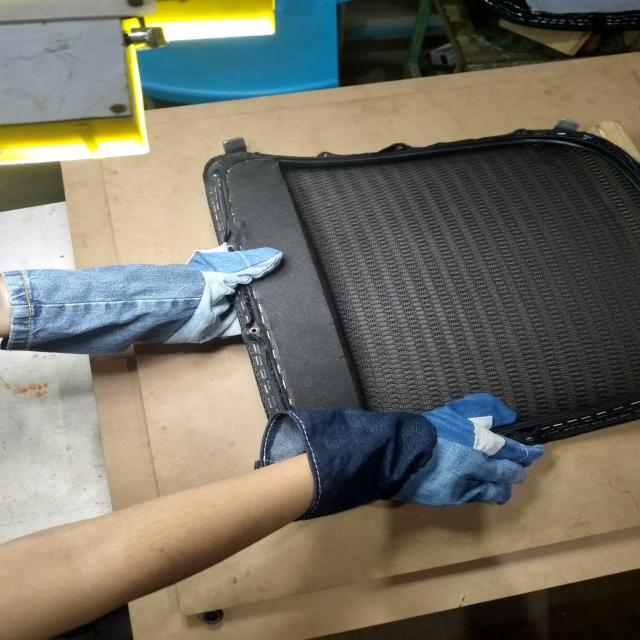Gloves-Detection: (256, 396, 543, 511), (2, 244, 284, 359)
